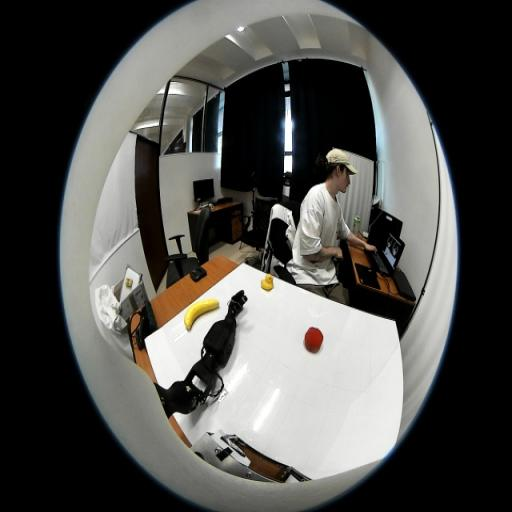Banana: (184, 298, 219, 330)
Duck: (261, 274, 273, 290)
LeftHand: (228, 302, 238, 315)
Tomato: (304, 327, 324, 352)
